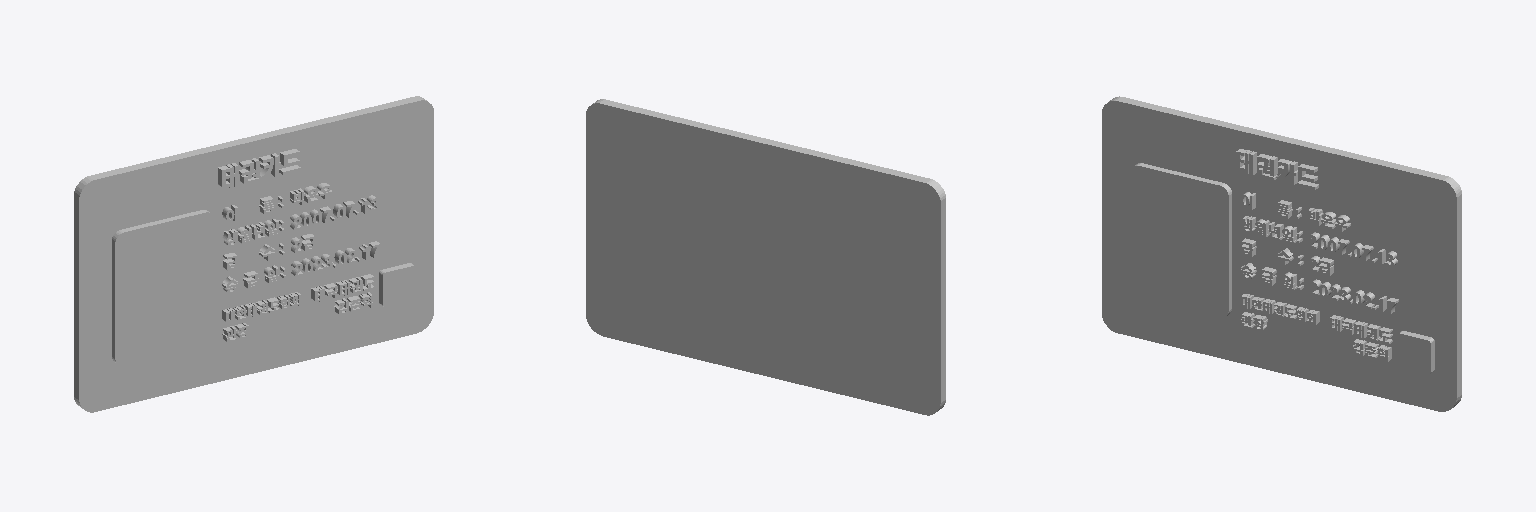
Rendered from card2_4_2.obj.
The picture shows the model from 3 angles: view 1: azimuth 30°, elevation 25°; view 2: azimuth 150°, elevation 25°; view 3: azimuth 330°, elevation 25°; orthographic projection.
Parts seen in each view (by area): view 1: Plane_Mesh, Plane.001_Mesh, BezierCurve.004_Mesh, Cube_Mesh; view 2: Plane_Mesh; view 3: Plane_Mesh, Plane.001_Mesh, BezierCurve.004_Mesh, Cube_Mesh.
Boxes of the visible parts, x1=… form: Plane_Mesh: x1=74, y1=96, x2=433, y2=412; Plane.001_Mesh: x1=112, y1=210, x2=213, y2=365; BezierCurve.004_Mesh: x1=218, y1=149, x2=380, y2=342; Cube_Mesh: x1=379, y1=263, x2=415, y2=306; Plane_Mesh: x1=586, y1=99, x2=945, y2=415; Plane_Mesh: x1=1102, y1=96, x2=1461, y2=411; Plane.001_Mesh: x1=1130, y1=163, x2=1231, y2=318; BezierCurve.004_Mesh: x1=1236, y1=149, x2=1398, y2=361; Cube_Mesh: x1=1397, y1=331, x2=1434, y2=374.
Size of the model in its own units: 4.98 by 3.11 by 0.2344.